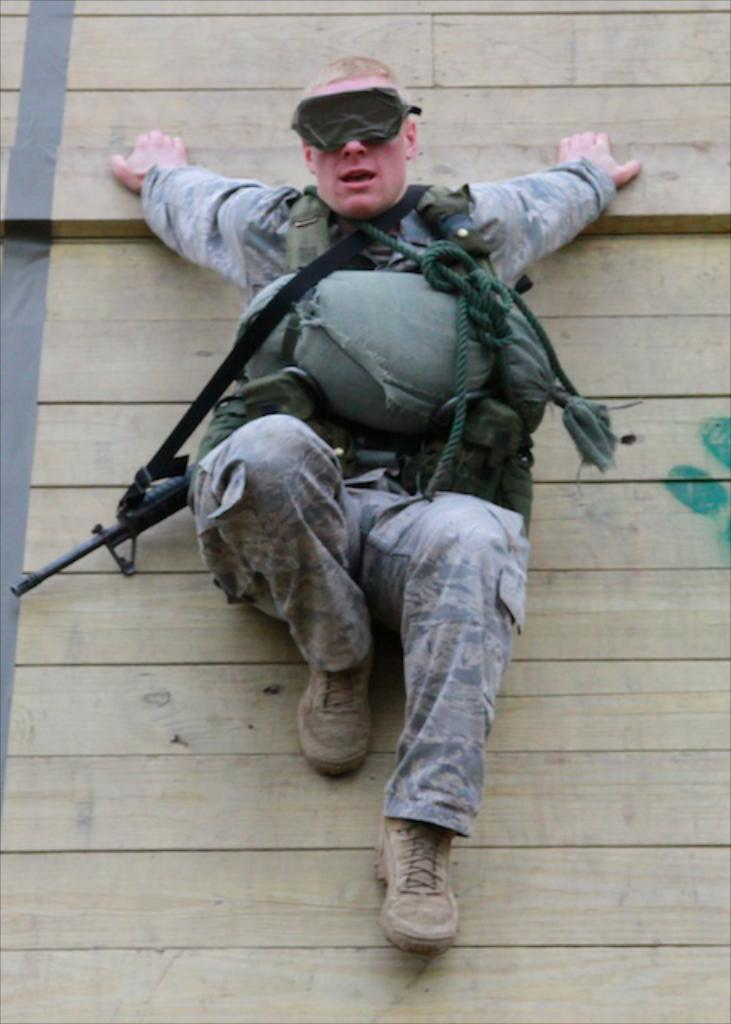Rifle: (14, 181, 430, 595)
